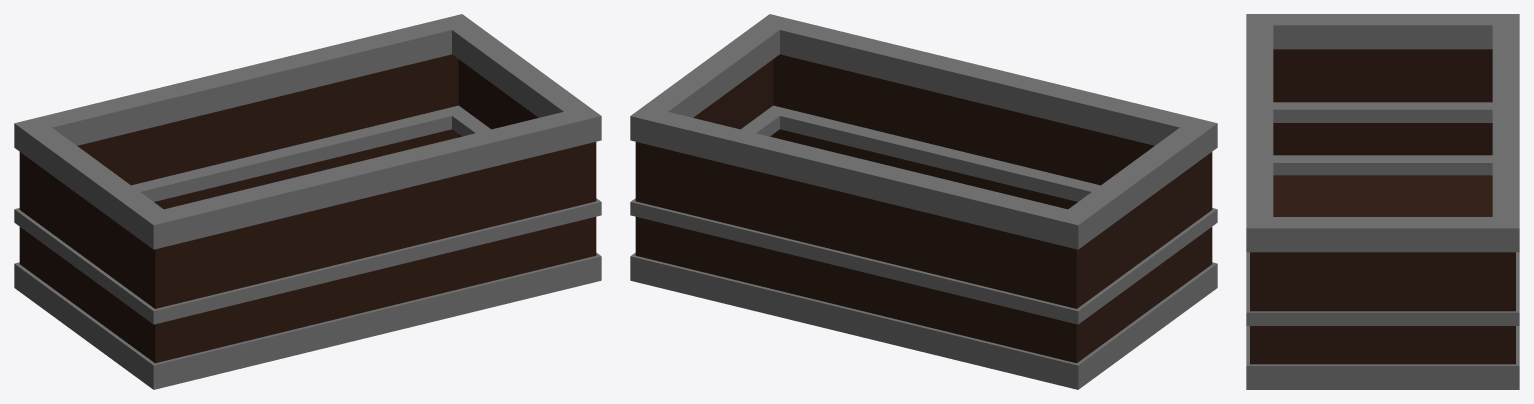
File: SM_chest_base_02.fbx
3 views of the same model, side by side, from view 1: azimuth 30°, elevation 25°; view 2: azimuth 150°, elevation 25°; view 3: azimuth 270°, elevation 25° (orthographic).
Parts seen in each view (by area): view 1: Cylinder048; view 2: Cylinder048; view 3: Cylinder048.
Boxes of the visible parts, x1=… form: Cylinder048: x1=14, y1=14, x2=601, y2=389; Cylinder048: x1=630, y1=14, x2=1217, y2=389; Cylinder048: x1=1246, y1=14, x2=1519, y2=389.
Size of the model in its own units: 54.9 by 19.28 by 29.6.
